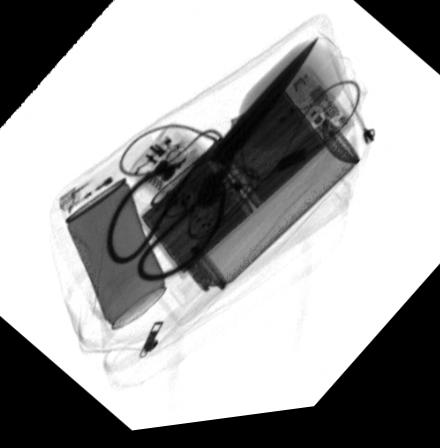Powerbank: (136, 66, 357, 288)
Scissors: (106, 49, 319, 288)
Sprayer: (150, 125, 361, 330)
